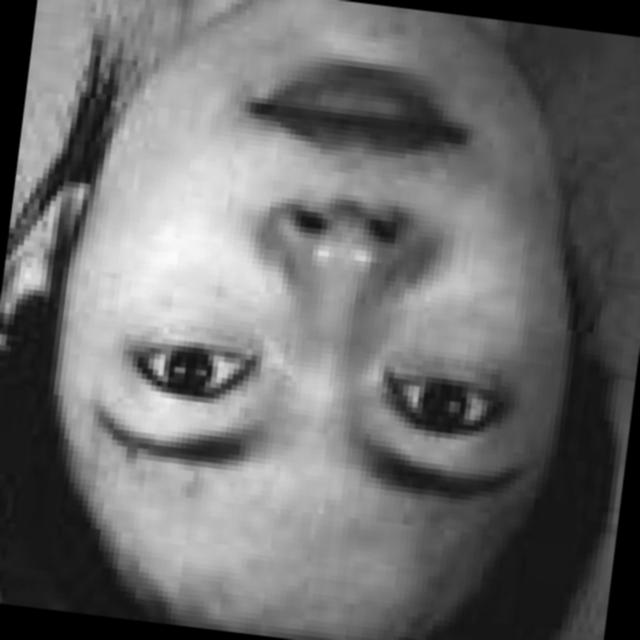fear: (64, 0, 611, 605)
